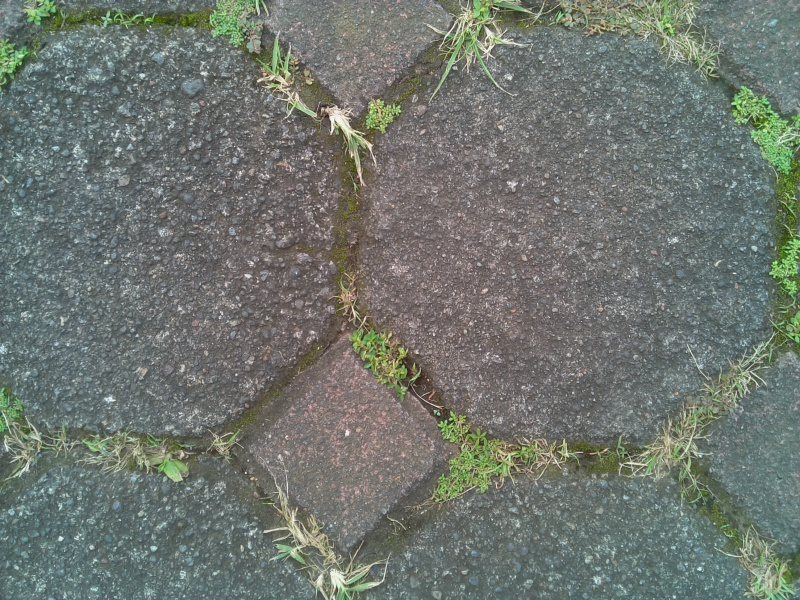Weed: (84, 424, 193, 491), (437, 408, 509, 505), (726, 85, 798, 172), (638, 1, 723, 74), (632, 410, 700, 494), (349, 320, 422, 397), (256, 486, 327, 565), (437, 3, 507, 81), (316, 97, 383, 172), (698, 340, 762, 417), (729, 535, 800, 599), (259, 42, 315, 117), (501, 434, 582, 480), (312, 555, 392, 600), (2, 417, 47, 480), (198, 424, 244, 465), (330, 273, 369, 319), (95, 4, 158, 32), (365, 93, 401, 132), (20, 2, 62, 27)
